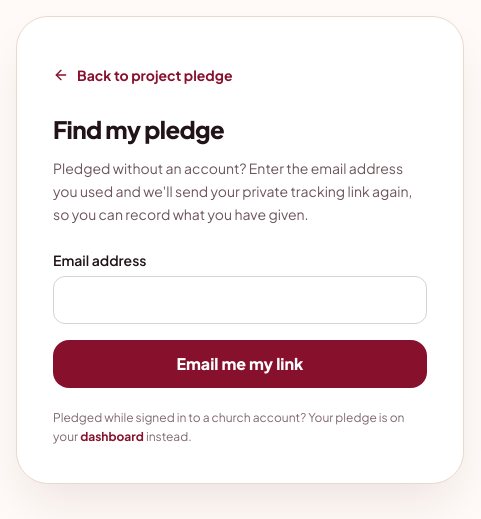
finding a pledge made without an account › asks for the address and confirms without revealing whether it pledged
Type "ada@example.com" into the field labelled "Email address". click: [240, 300]
box: left=53, top=276, right=427, bottom=324
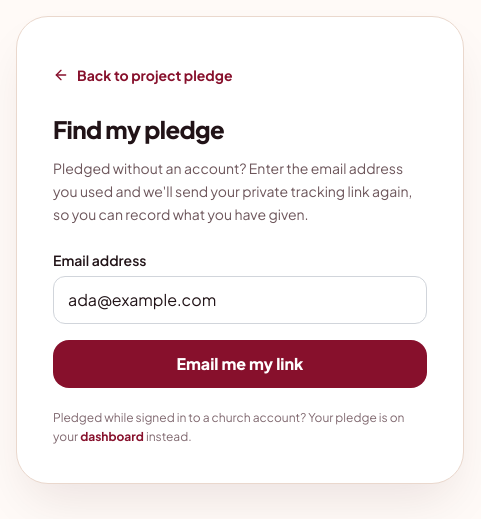
Click the button "Email me my link". click: [240, 364]
box: left=53, top=340, right=427, bottom=388
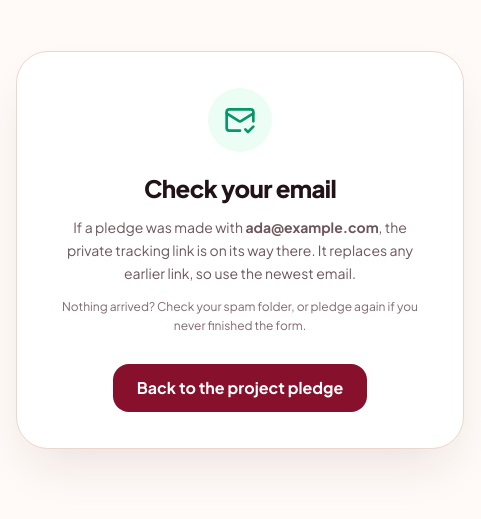
expect the message shows "If a pledge was made with": met, box left=73, top=218, right=246, bottom=236
expect the message shows "ada@example.com": met, box left=245, top=218, right=379, bottom=236
